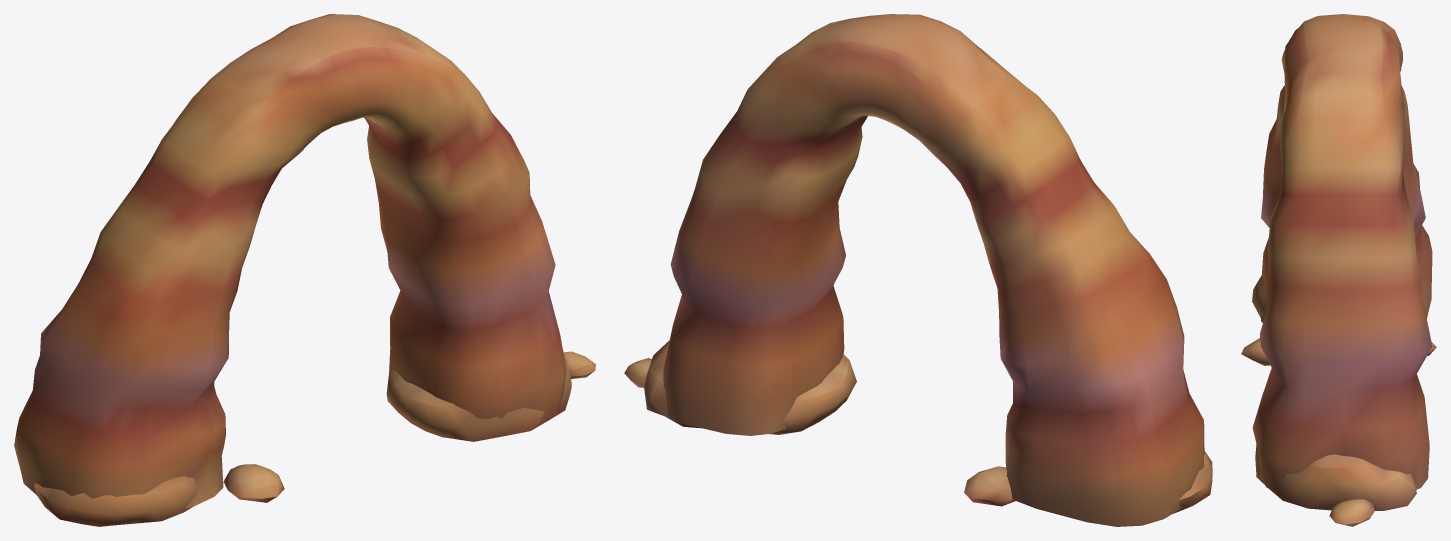
File: amber_arch_sandstone_a.glb
3 views of the same model, side by side, from view 1: azimuth 30°, elevation 25°; view 2: azimuth 150°, elevation 25°; view 3: azimuth 270°, elevation 25° (orthographic). The views are drawn at different scales.
Visible parts, largest first — view 1: amber_arch_sandstone_a; view 2: amber_arch_sandstone_a; view 3: amber_arch_sandstone_a.
Part boxes in pixels (left/top/right/bottom): amber_arch_sandstone_a: left=14, top=14, right=595, bottom=526; amber_arch_sandstone_a: left=624, top=14, right=1212, bottom=526; amber_arch_sandstone_a: left=1241, top=14, right=1436, bottom=526.
Size of the model in its own units: 15.31 by 10.83 by 4.98.
